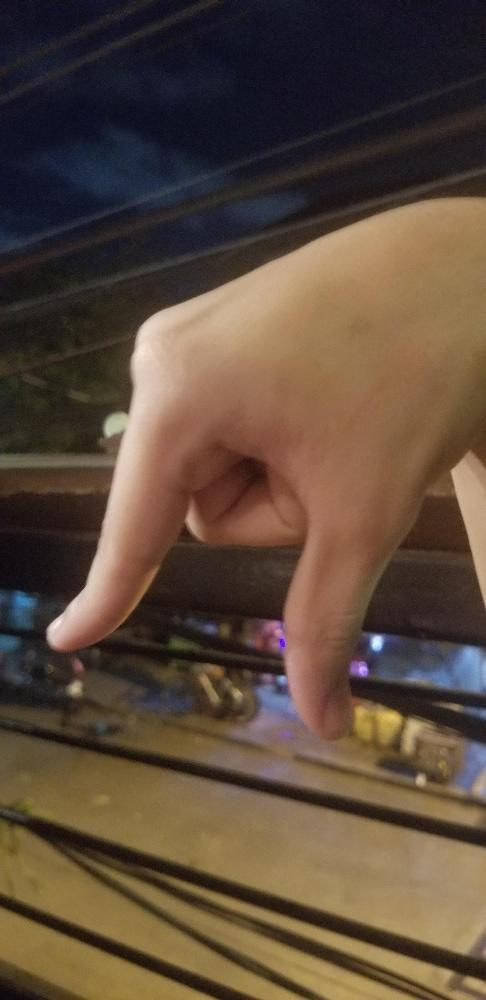q: (38, 192, 485, 742)
